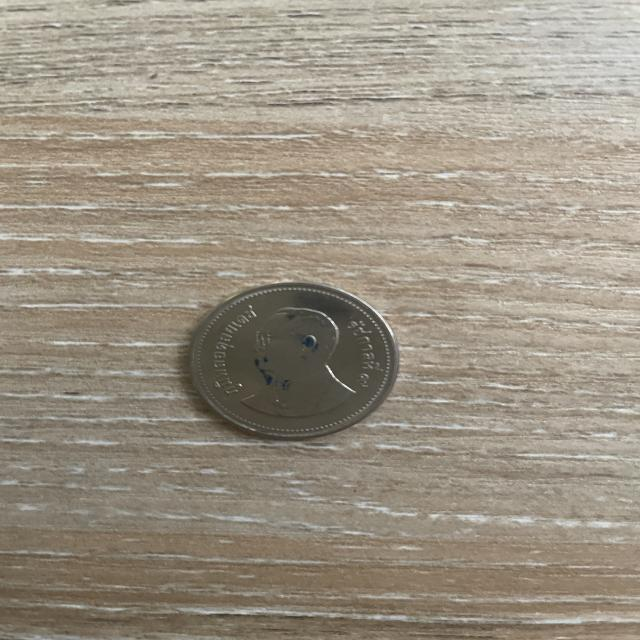2 Bath: (179, 281, 410, 451)
